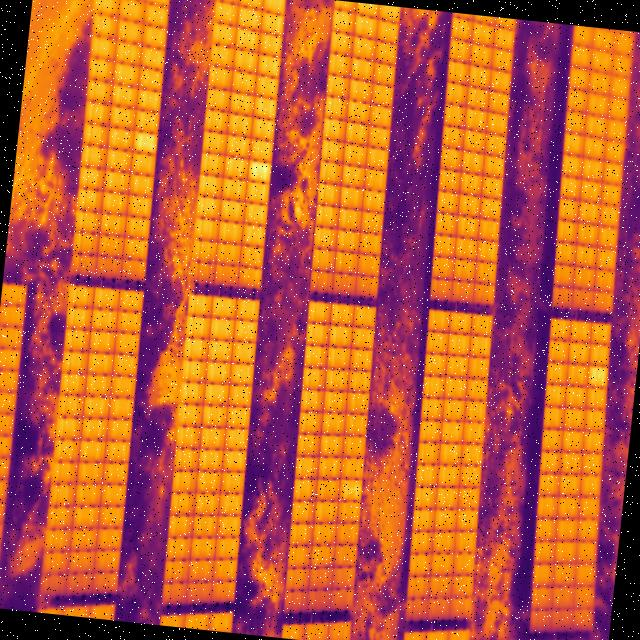Hotspot: (132, 128, 158, 156), (247, 156, 273, 183), (339, 478, 362, 499), (587, 366, 609, 386)
